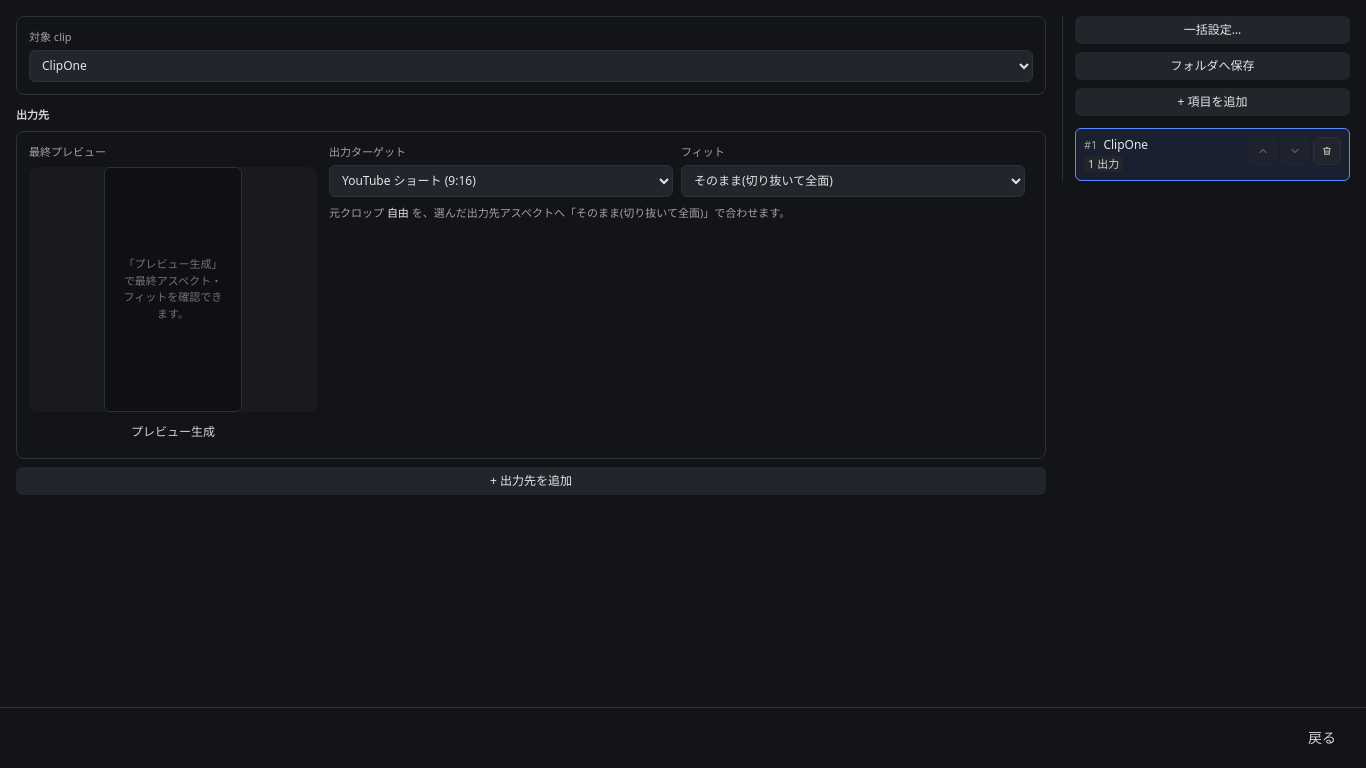
Test: public のリフレーム画面: リフレーム機能自体は利用できる › 「フォルダへ保存」でフォルダを選び、reframe_start が実書き出し品質で起動する
Click the button "フォルダへ保存".
click(1212, 66)  # box [1075, 52, 1350, 80]
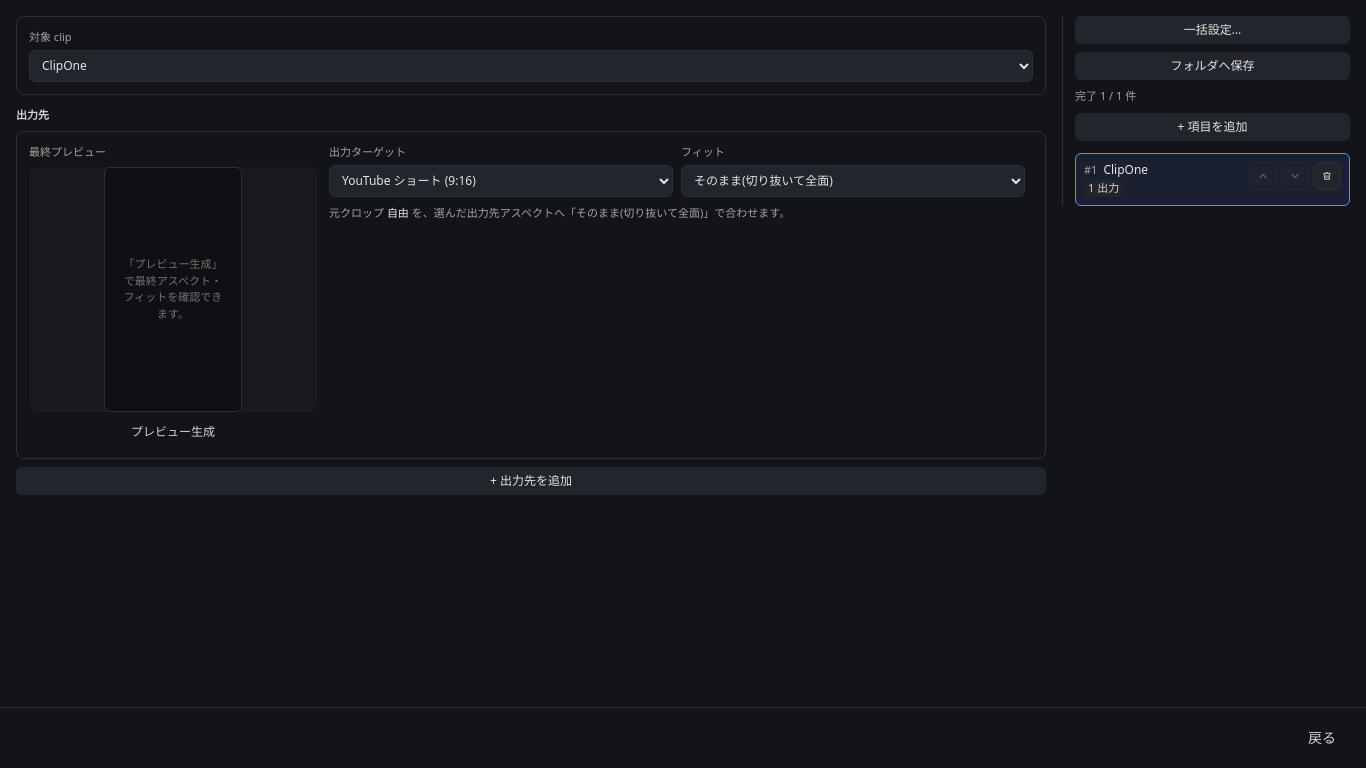
Expected: the text "完了 1 / 1 件" is shown, [1075, 88, 1136, 104]
